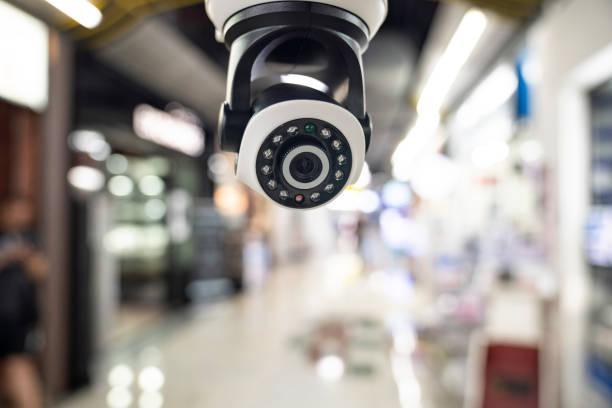camera: (189, 0, 420, 216)
